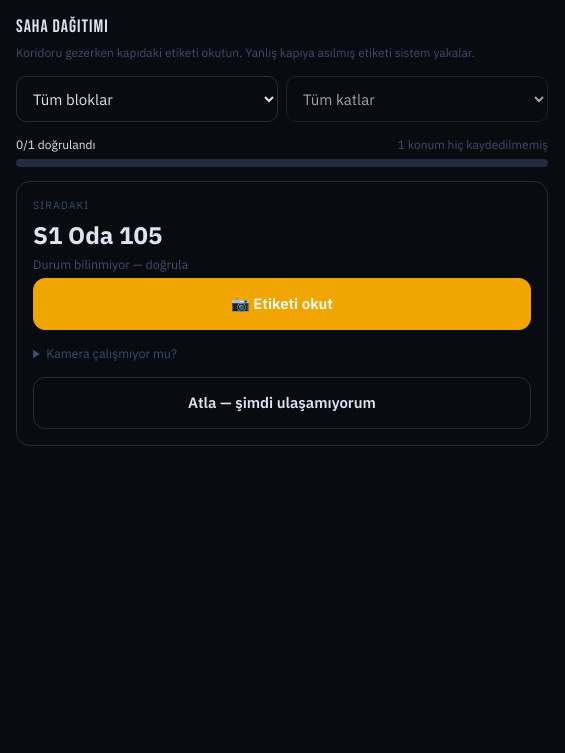
Test: saha dağıtımı ekranı › aktif QR olmayan konumda elle işaret sessizce başarı saymaz
Click the heading "Kamera çalışmıyor mu?" at (112, 353), box [46, 345, 177, 361]
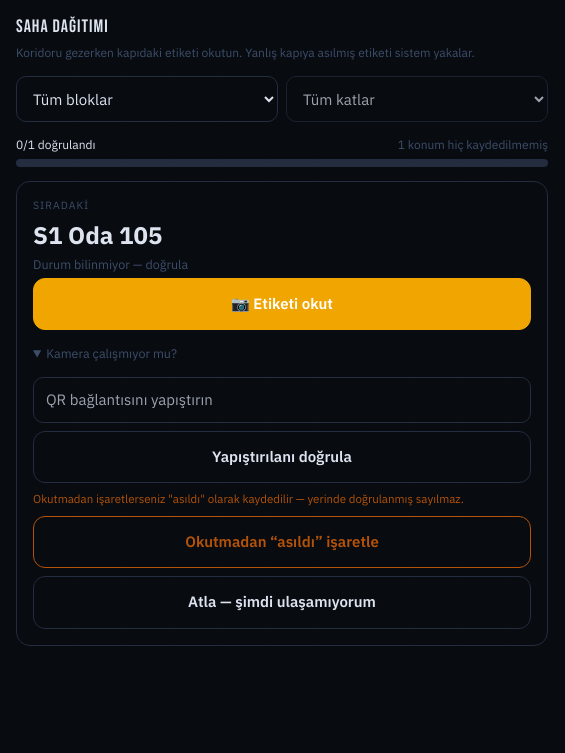
Click the button "Okutmadan “asıldı” işaretle" at (282, 542), box [33, 516, 531, 568]
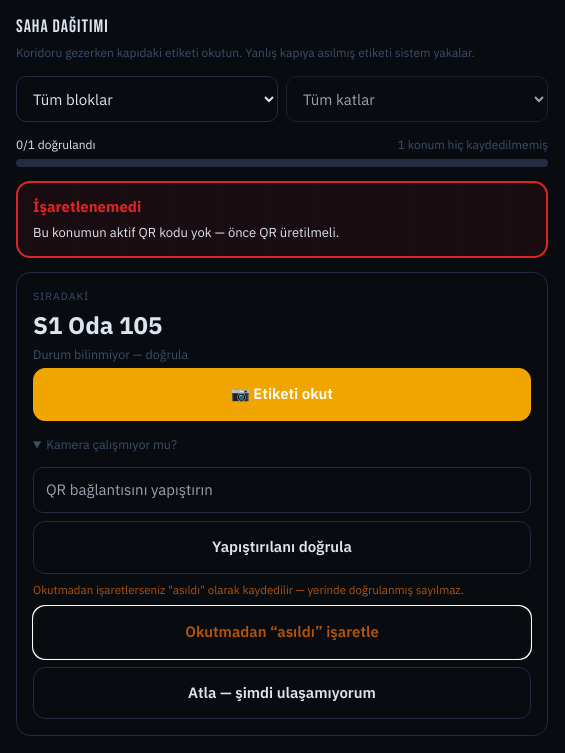
expect the text "İşaretlenemedi" is shown: met, box [33, 197, 141, 216]
expect the text "Bu konumun aktif QR kodu yok — önce QR üretilmeli." is shown: met, box [33, 224, 339, 240]
